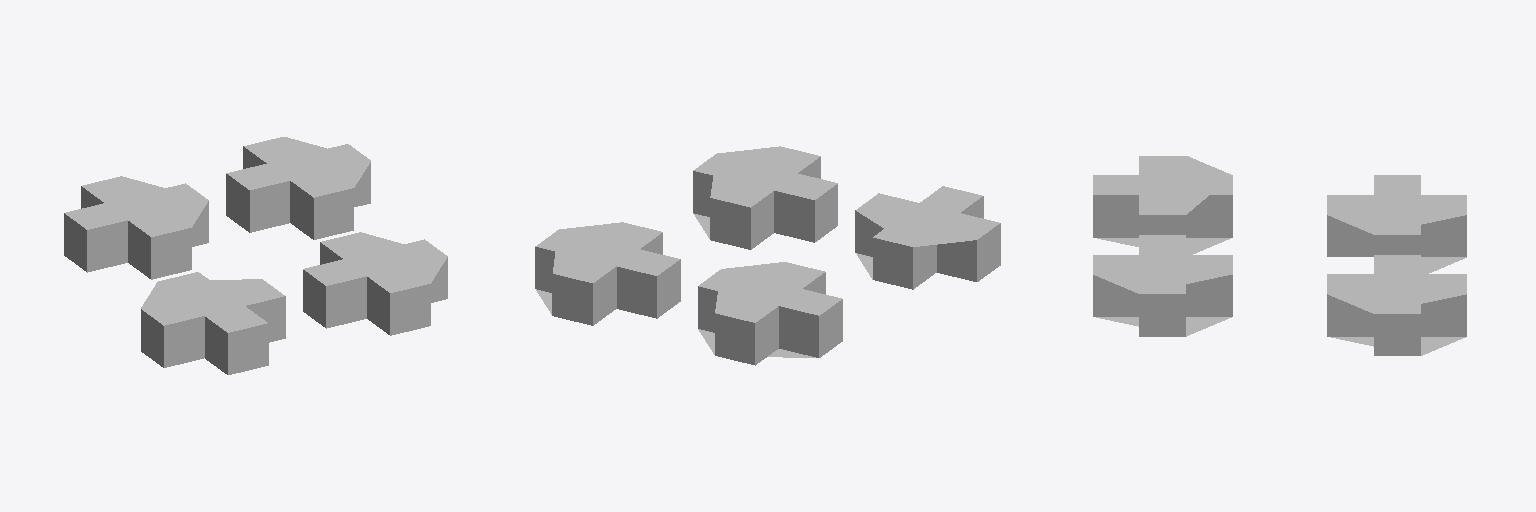
File: Trap_Ground_Small_Deactivated.obj
3 renders of one model, left to right at view 1: azimuth 30°, elevation 25°; view 2: azimuth 150°, elevation 25°; view 3: azimuth 270°, elevation 25°, orthographic.
Parts seen in each view (by area): view 1: Trap_Ground_Small_Deactivated_Trap_Ground_Small_Deactivated.001; view 2: Trap_Ground_Small_Deactivated_Trap_Ground_Small_Deactivated.001; view 3: Trap_Ground_Small_Deactivated_Trap_Ground_Small_Deactivated.001.
Boxes of the visible parts, x1=… form: Trap_Ground_Small_Deactivated_Trap_Ground_Small_Deactivated.001: x1=64, y1=137, x2=447, y2=374; Trap_Ground_Small_Deactivated_Trap_Ground_Small_Deactivated.001: x1=535, y1=146, x2=1000, y2=365; Trap_Ground_Small_Deactivated_Trap_Ground_Small_Deactivated.001: x1=1093, y1=156, x2=1466, y2=355.
Size of the model in its own units: 0.8 by 0.1 by 0.8.